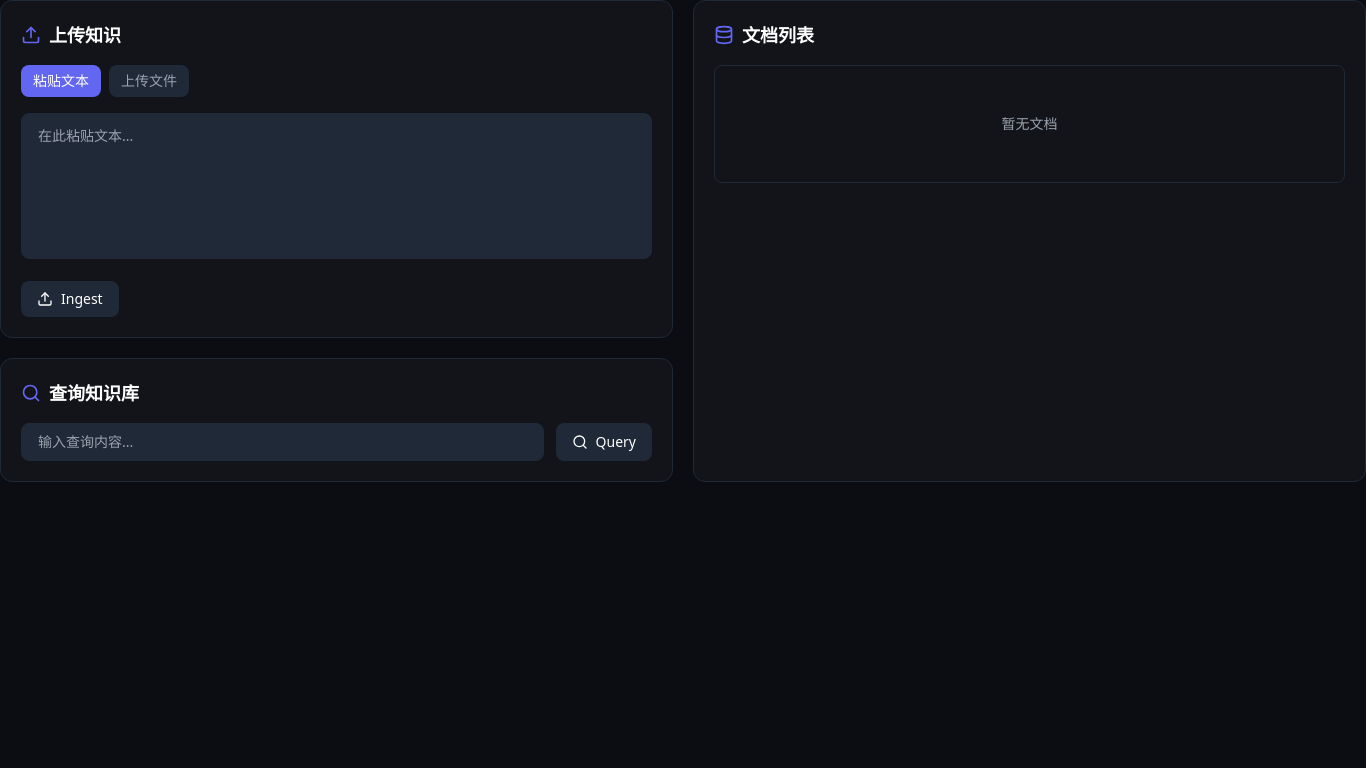
Scenario: KnowledgeBaseManager › queries and renders results
The width and height of the screenshot is (1366, 768).
Type "test query" into the field with placeholder "输入查询内容...".
click(282, 442); type("test query")  # box [21,423,544,461]
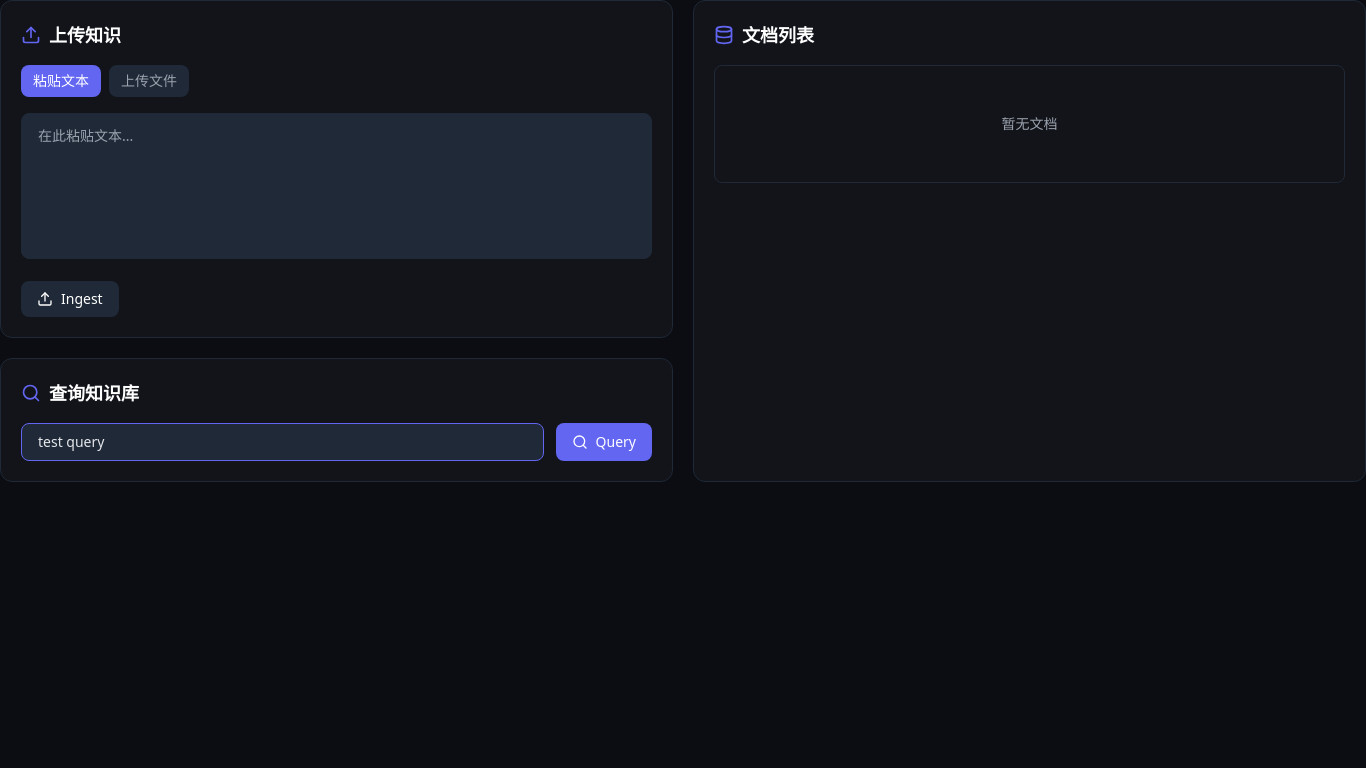
Click the button "Query".
click(604, 442)  # box [556,423,652,461]
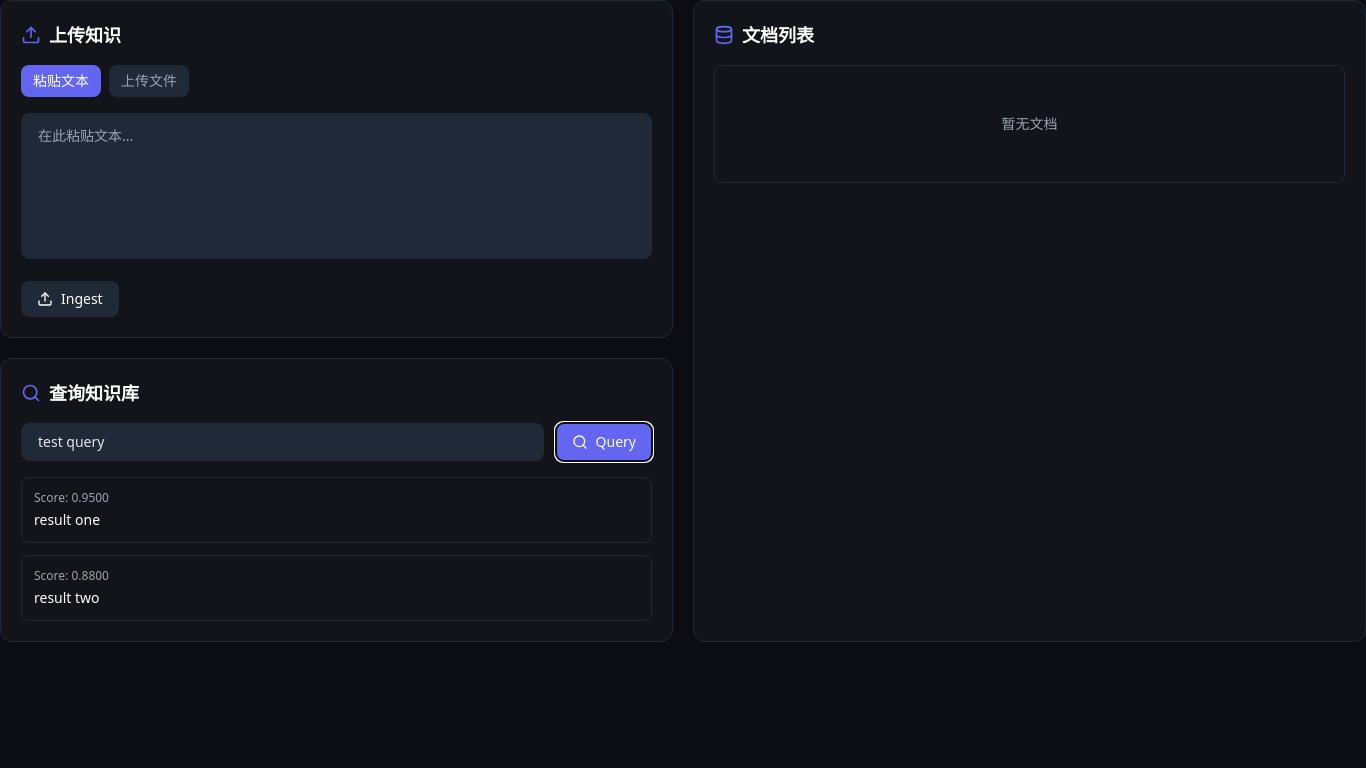
Check: the text "result one" is shown, box [34,510,100,529]
Check: the text "result two" is shown, box [34,588,100,607]
